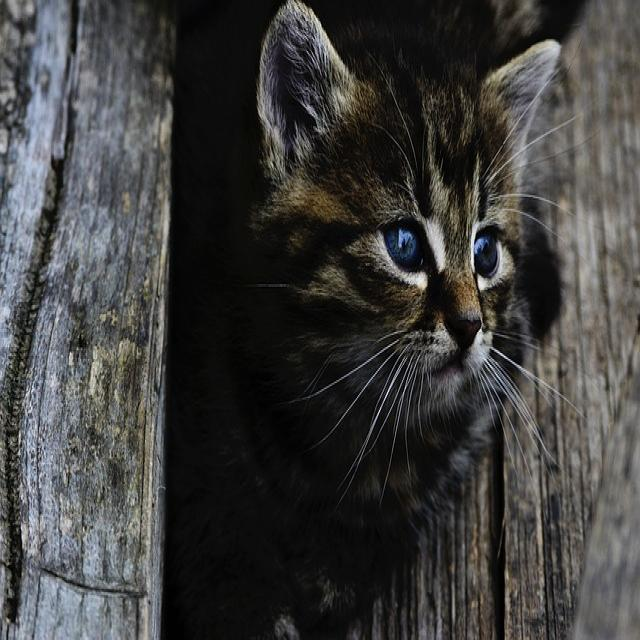animal: (167, 5, 562, 614)
